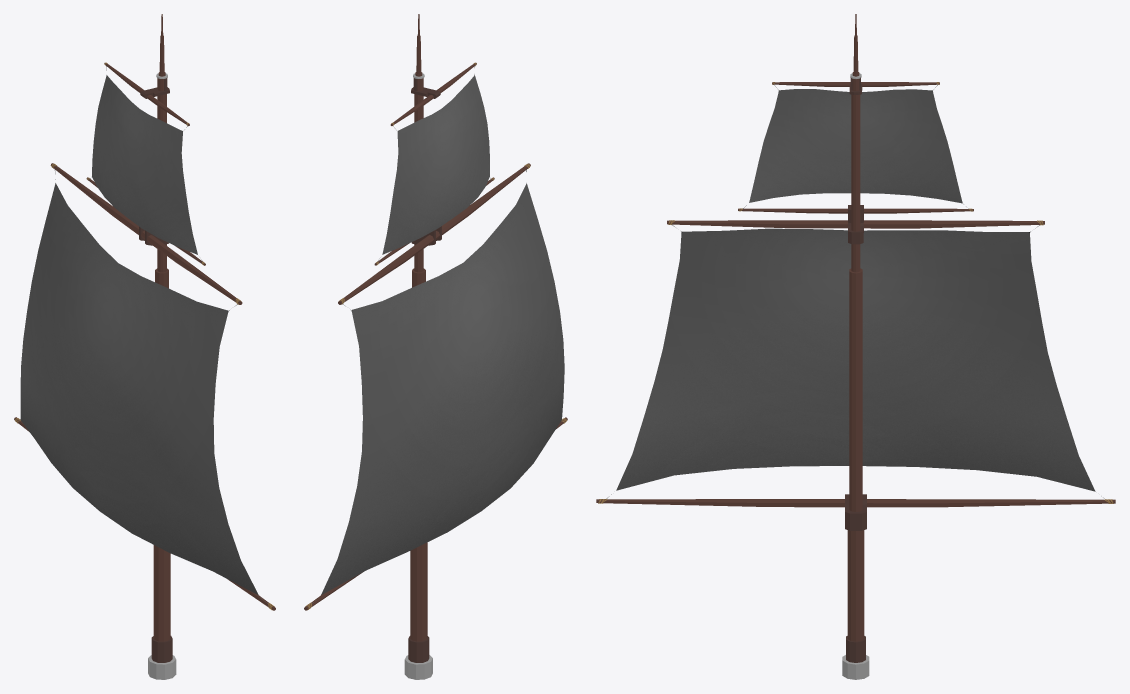
File: cartoonMast.glb
3 views of the same model, side by side, from view 1: azimuth 30°, elevation 25°; view 2: azimuth 150°, elevation 25°; view 3: azimuth 270°, elevation 25° (orthographic).
Parts seen in each view (by area): view 1: SailsFront.001_Sail_0; view 2: SailsFront.001_Sail_0; view 3: SailsFront.001_Sail_0.
Boxes of the visible parts, x1,y1,x2,y2 form: SailsFront.001_Sail_0: (14,14,275,679); SailsFront.001_Sail_0: (304,14,567,679); SailsFront.001_Sail_0: (596,14,1115,679).
Bounding box in the file's own units: 4.05 × 31.14 × 22.21.
Materials: 2 (2 with a texture image).
